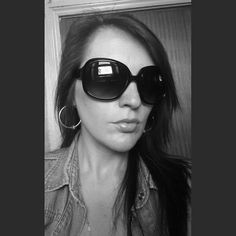sunglasses: (87, 61, 157, 103), (87, 61, 94, 84)
